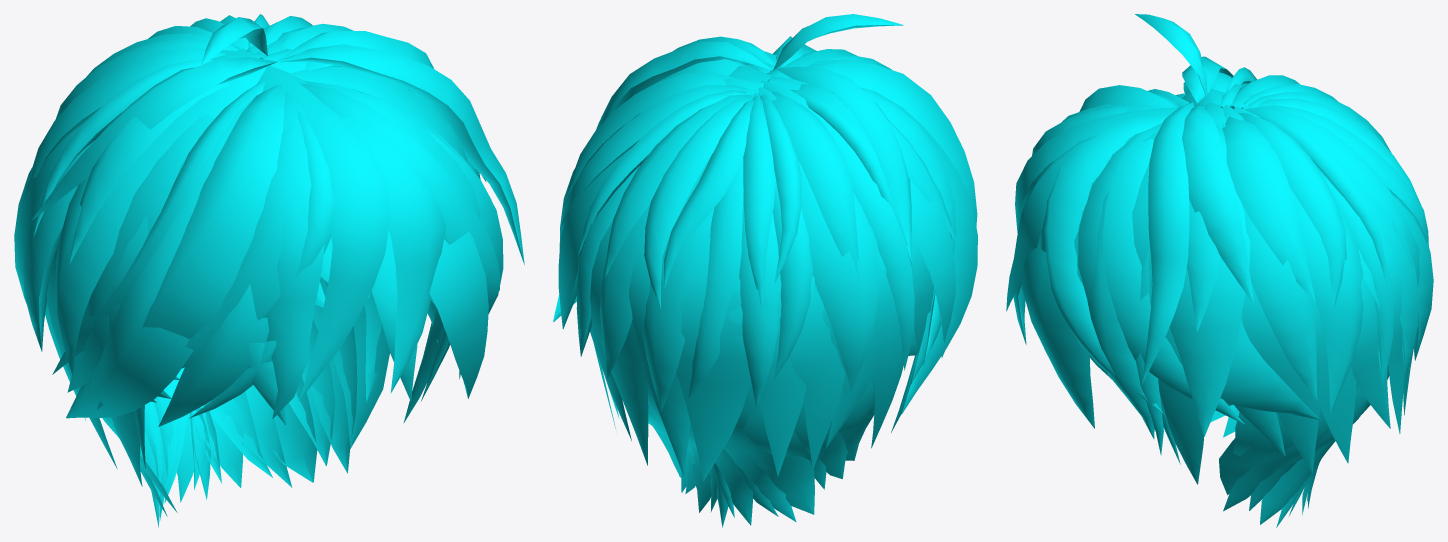
File: 1_anime.glb
3 views of the same model, side by side, from view 1: azimuth 30°, elevation 25°; view 2: azimuth 150°, elevation 25°; view 3: azimuth 270°, elevation 25° (orthographic). The views are drawn at different scales.
Parts seen in each view (by area): view 1: anime style short hair; view 2: anime style short hair; view 3: anime style short hair.
Part boxes in pixels (<box>): anime style short hair: <box>14,14,524,527</box>; anime style short hair: <box>553,14,977,527</box>; anime style short hair: <box>1006,14,1433,527</box>.
Size of the model in its own units: 2.11 by 2.6 by 2.17.
